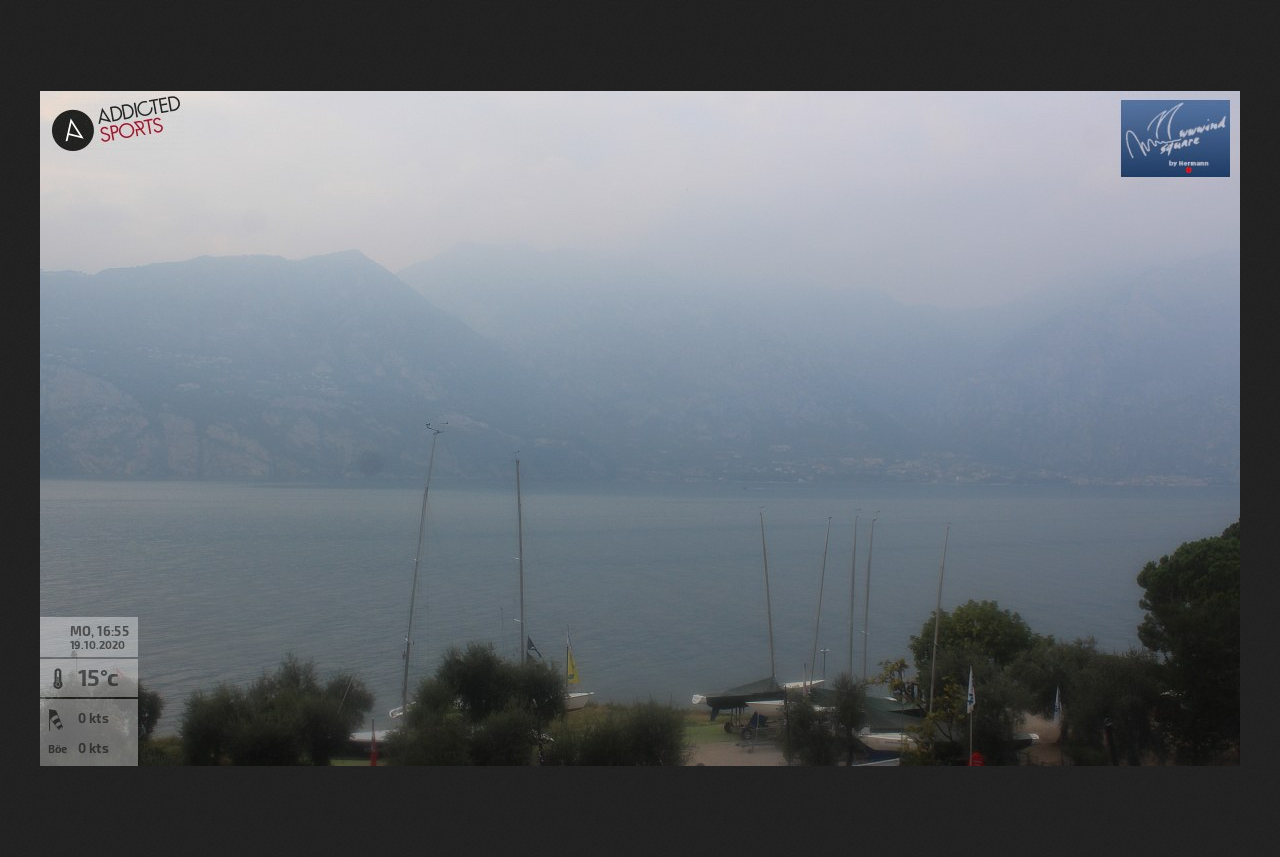maybe: (523, 630, 546, 657)
no: (958, 661, 983, 721), (564, 646, 582, 686), (562, 621, 576, 653)
